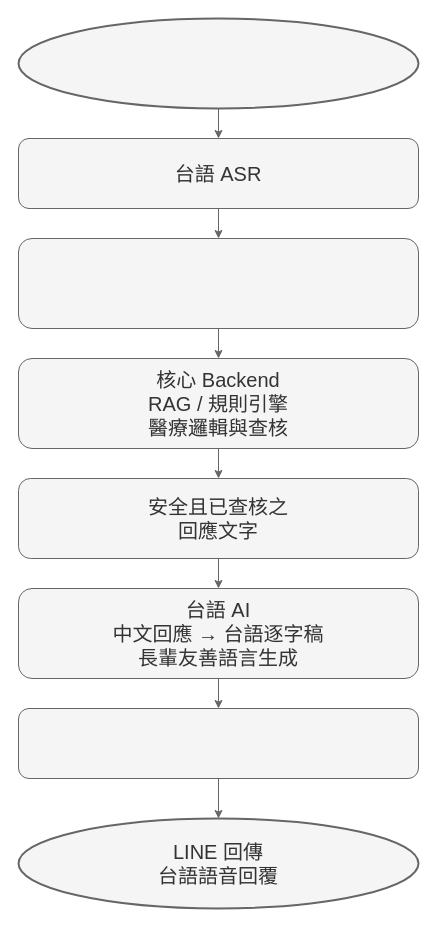
Image size: 436x926. Some labels were removed from this diagram. Here are the shapes that lost their labels. From the top down, the box of each, then its label:
(17, 17, 419, 109): 高齡使用者 台語語音輸入
(18, 238, 418, 328): 台語 AI 台語逐字稿 → 中文逐字稿 僅語言轉換
(18, 708, 418, 778): 台語 TTS
